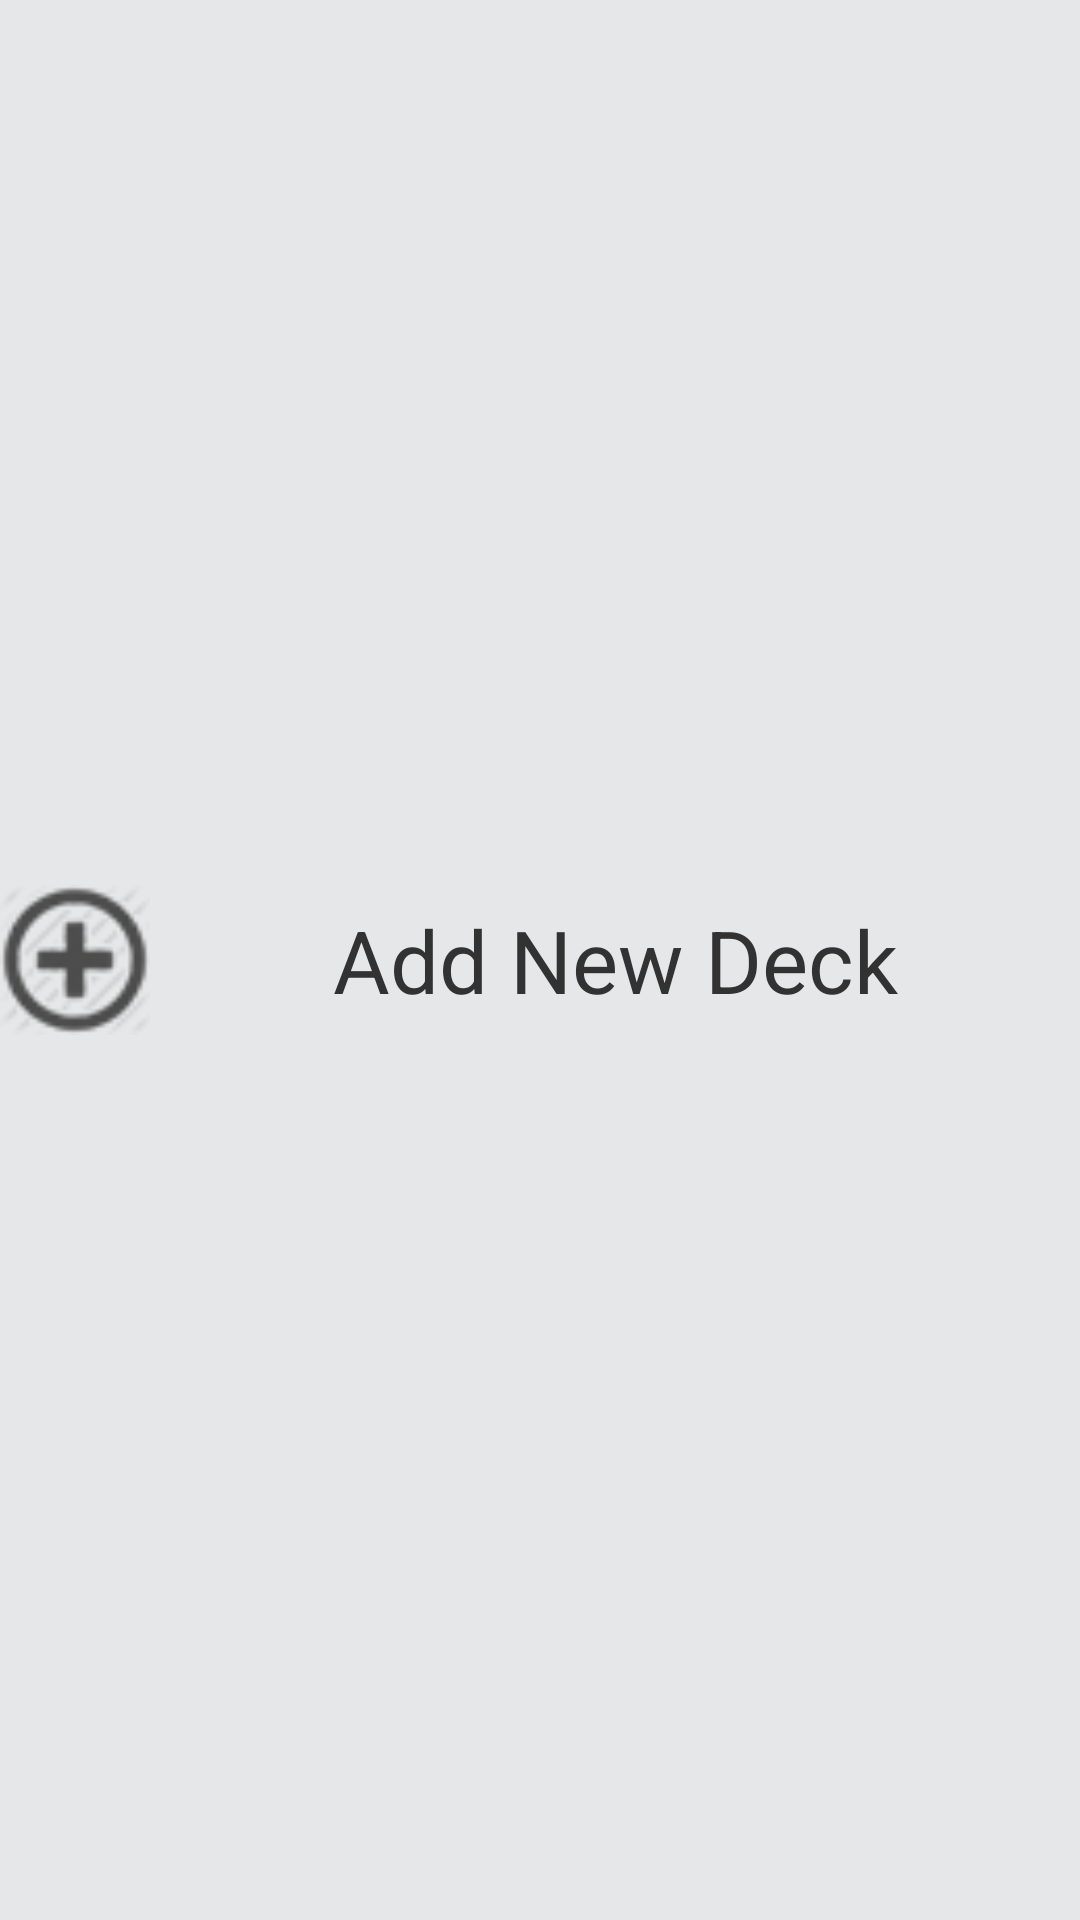

Where icons sit on this 1080px×1920px app screen, as bbox(x1, y1, x2, y2):
adddeckicon: bbox(3, 888, 147, 1032)
